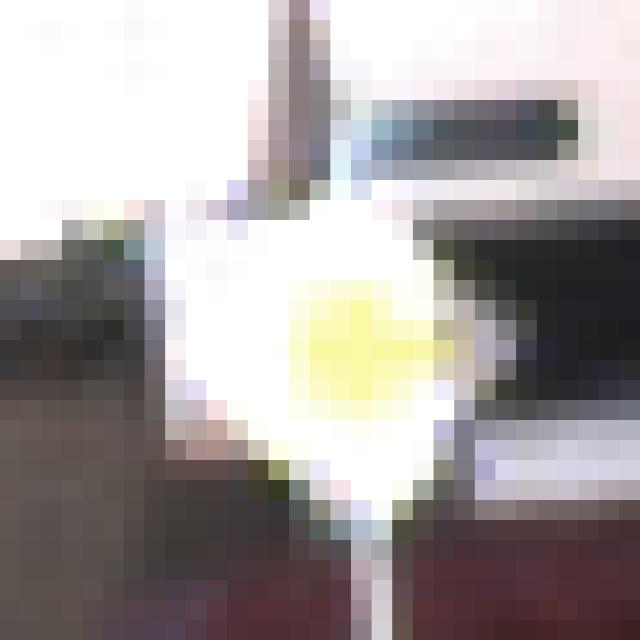Main Road: (104, 121, 538, 541)
